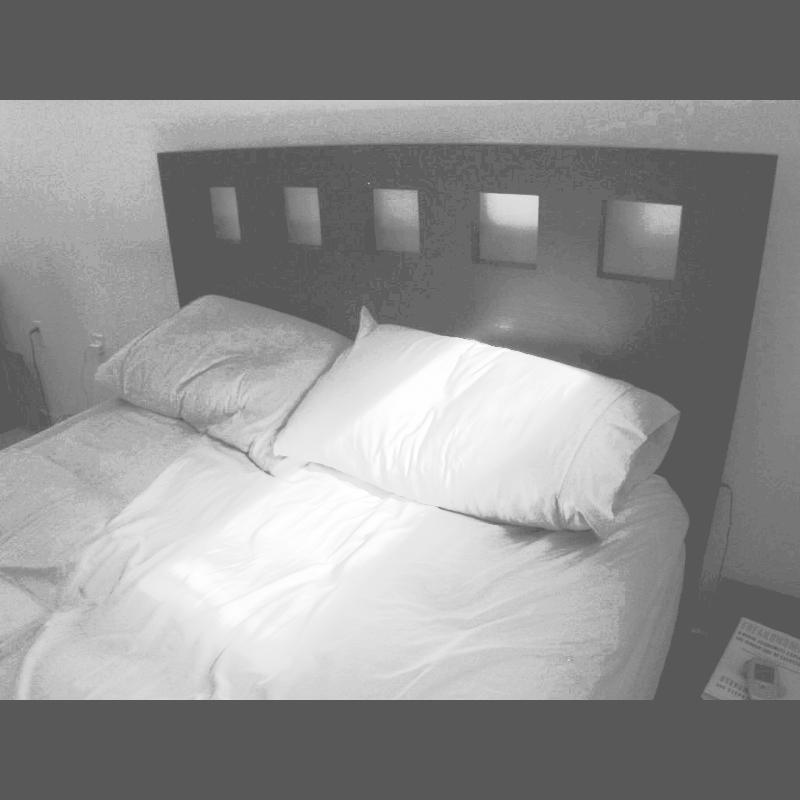pillow: (264, 308, 648, 561)
